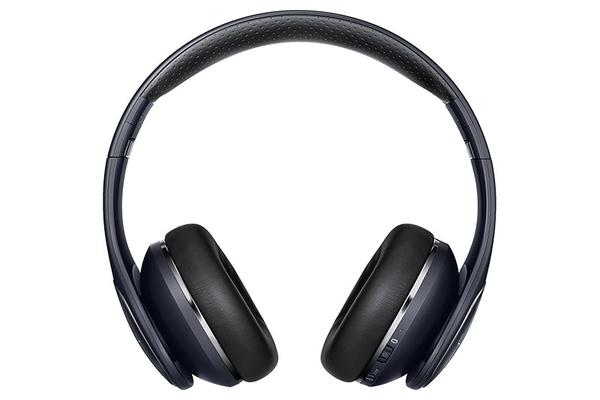headphone: (79, 16, 522, 400)
